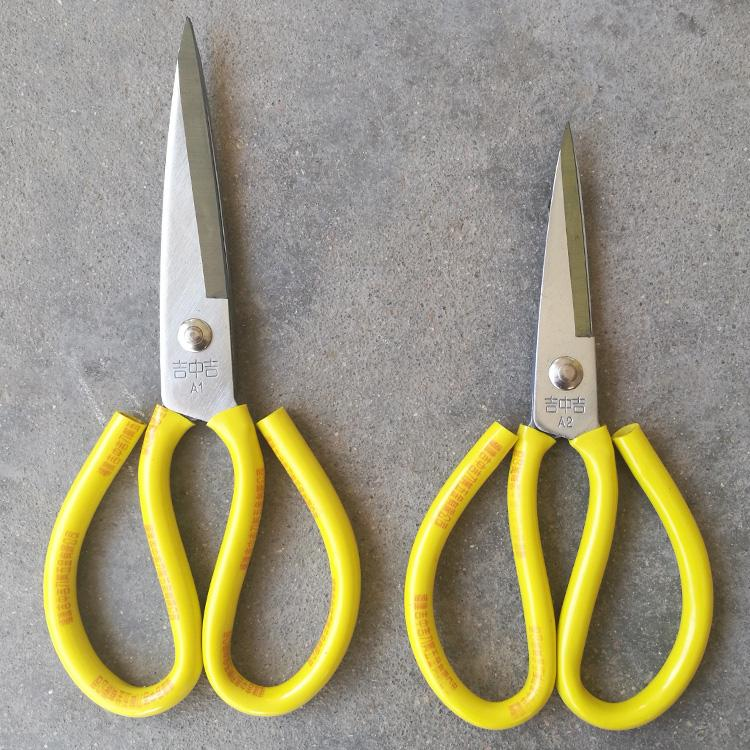scissor: (38, 14, 367, 721), (401, 119, 728, 731)
